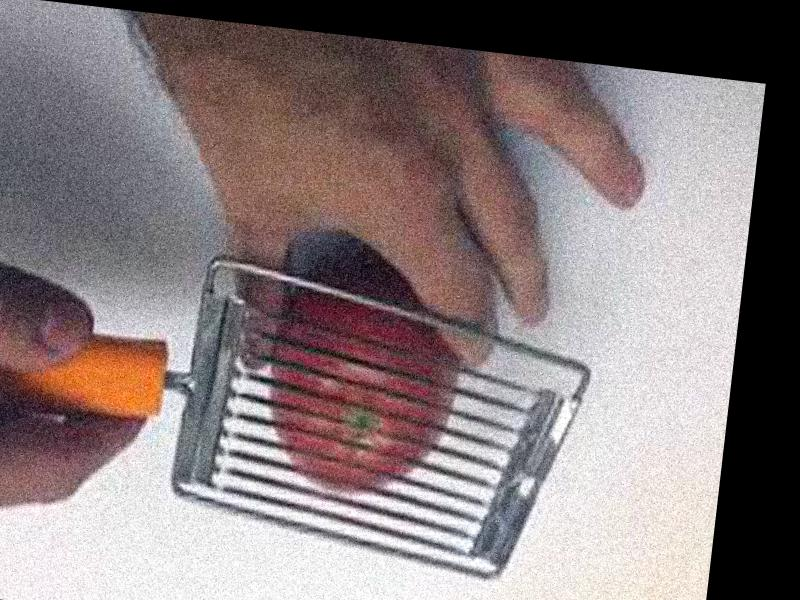Tomato: (255, 253, 464, 502)
